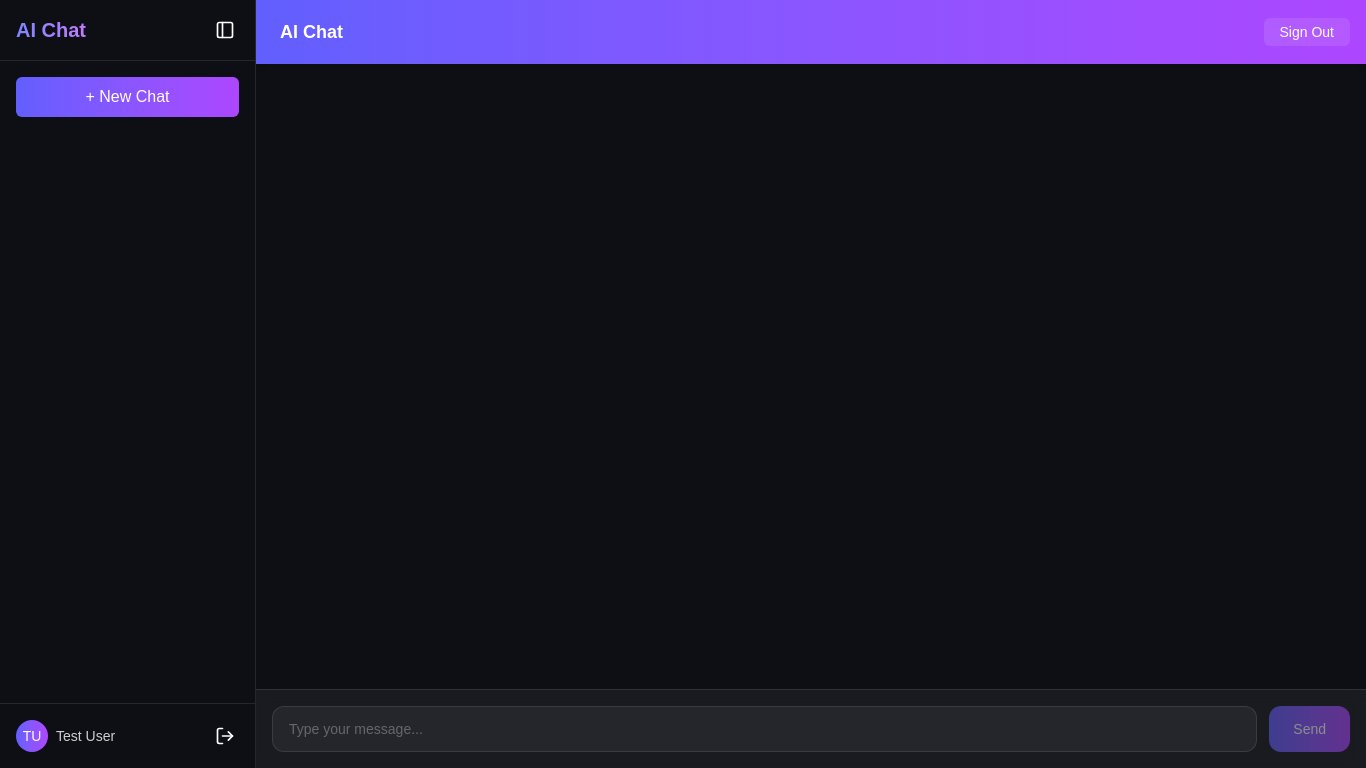
Test: ChatPage Integration Tests › allows the user to type and send a message
Step 1. Type "Hello" into the field with placeholder "Type your message..." → [765, 729], box [272, 706, 1257, 752]
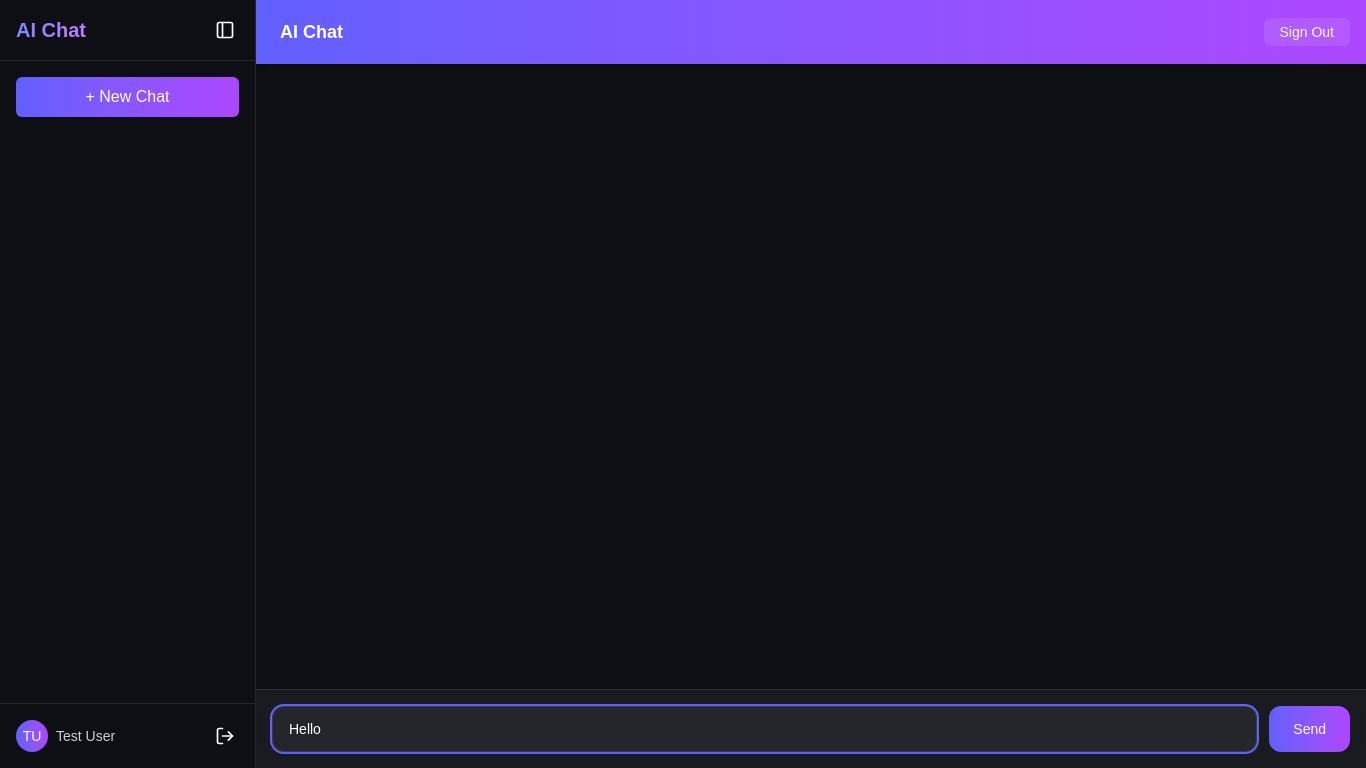
Now the button "Send" is enabled
Step 2. Click the button "Send" → [1310, 729], box [1269, 706, 1350, 752]
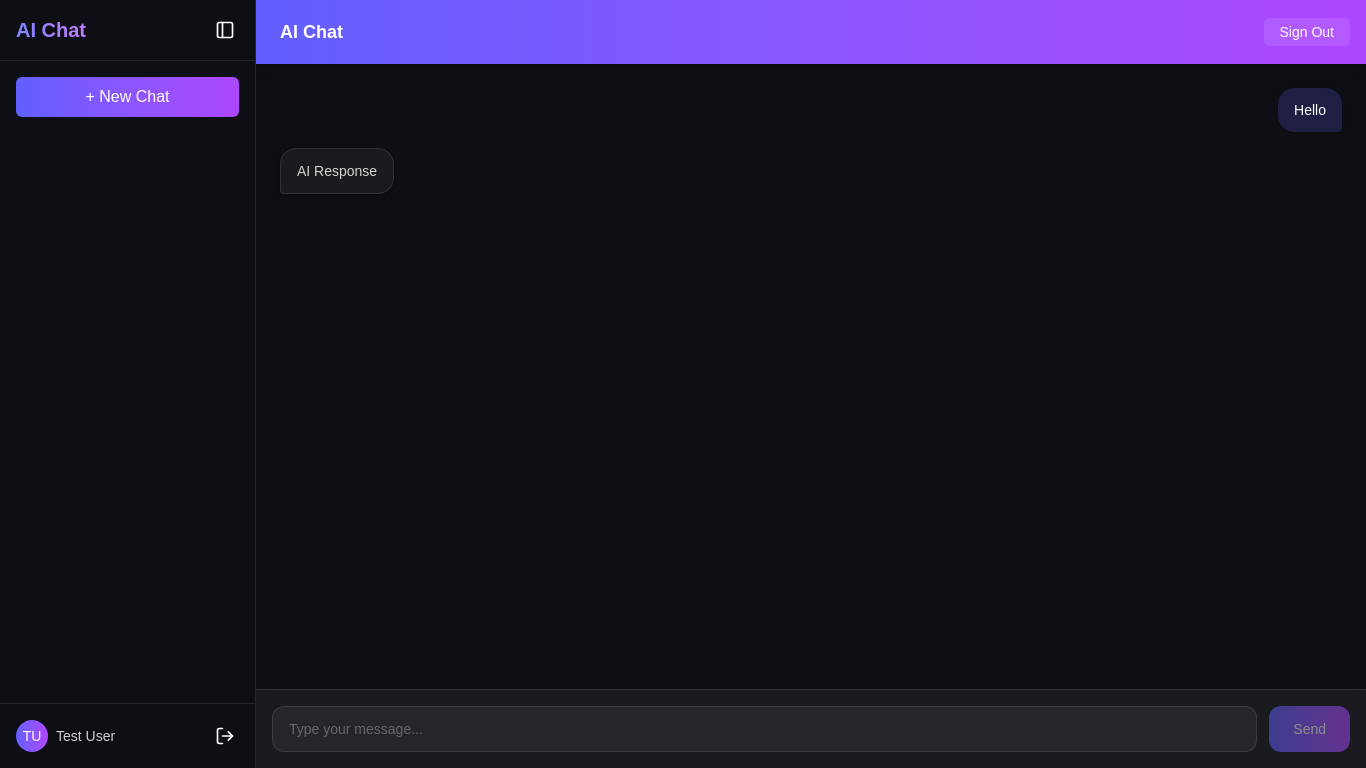
Now the text "AI Response" is shown, box [297, 161, 377, 181]
